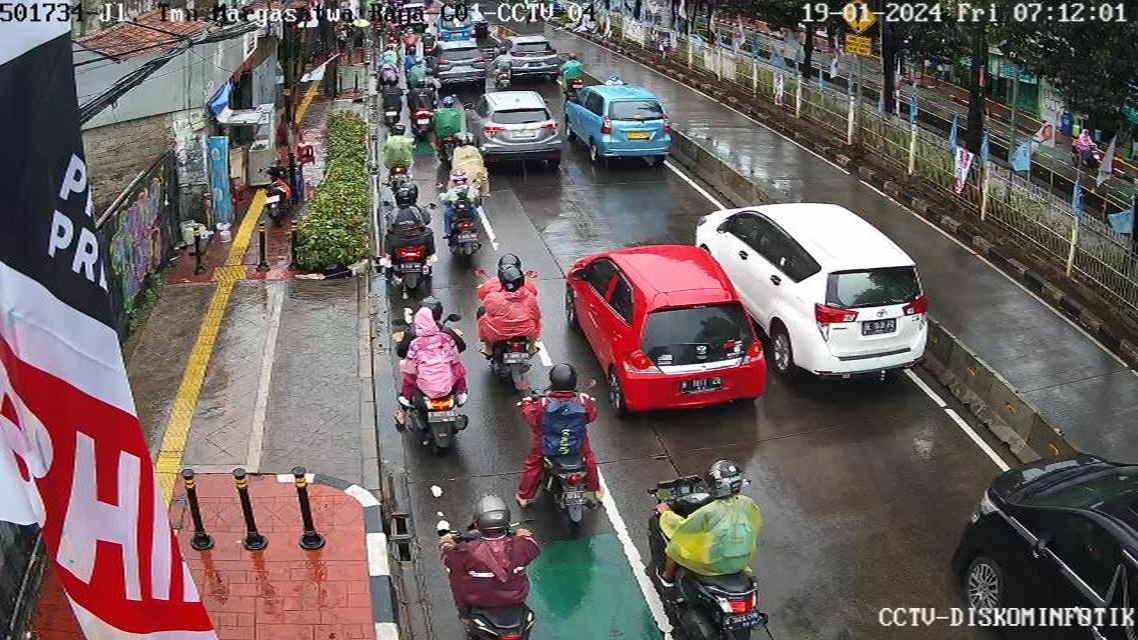Gerobak: (247, 101, 279, 188)
